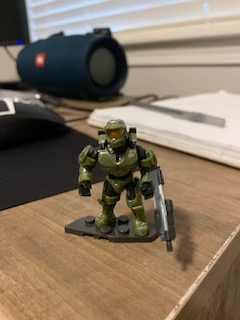chief: (77, 118, 159, 239)
rifle: (144, 165, 177, 254)
spartan: (75, 116, 157, 237)
